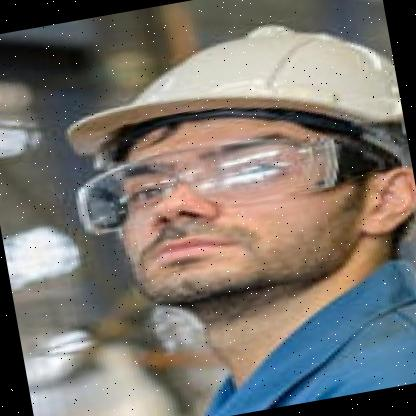capacete: (45, 2, 404, 184)
oculos: (56, 122, 357, 244)
